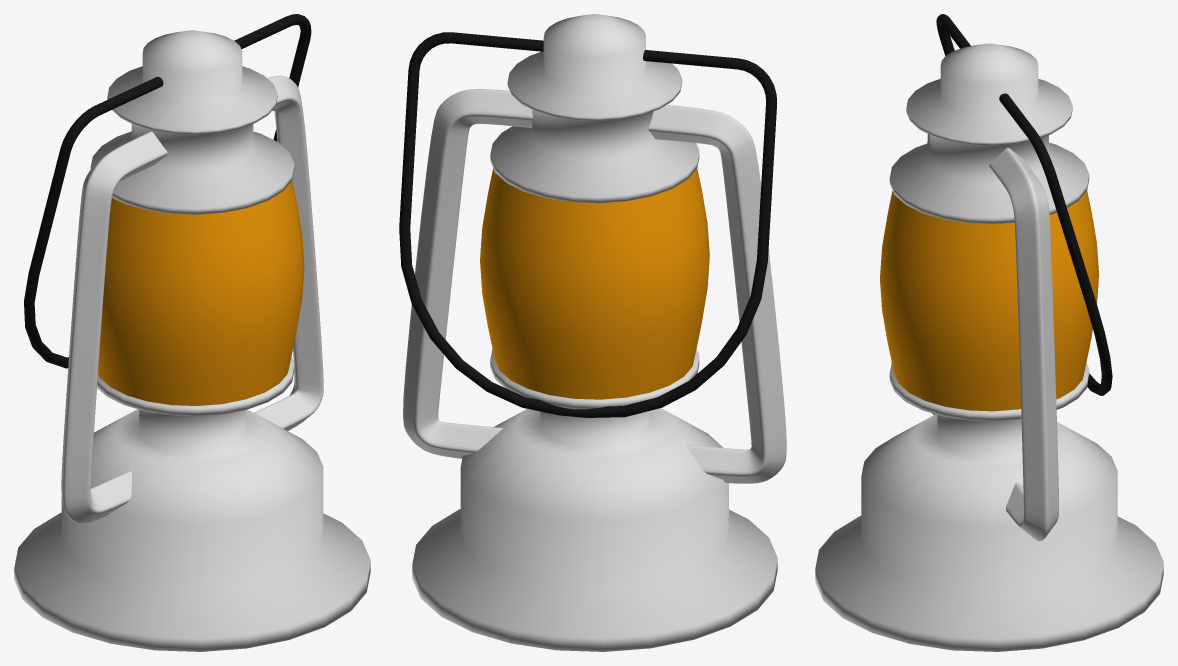
The model's file is Lantern.glb.
3 renders of one model, left to right at view 1: azimuth 30°, elevation 25°; view 2: azimuth 150°, elevation 25°; view 3: azimuth 270°, elevation 25°, orthographic. The views are drawn at different scales.
Visible parts, largest first — view 1: Body, Lantern; view 2: Body, Lantern; view 3: Body, Lantern.
Boxes of the visible parts, bbox=[...] form: Body: bbox=[14, 30, 370, 651]; Lantern: bbox=[24, 14, 311, 405]; Body: bbox=[403, 14, 786, 651]; Lantern: bbox=[399, 32, 776, 417]; Body: bbox=[815, 43, 1163, 651]; Lantern: bbox=[880, 14, 1112, 411].
Size of the model in its own units: 1.17 by 1.87 by 1.11.
